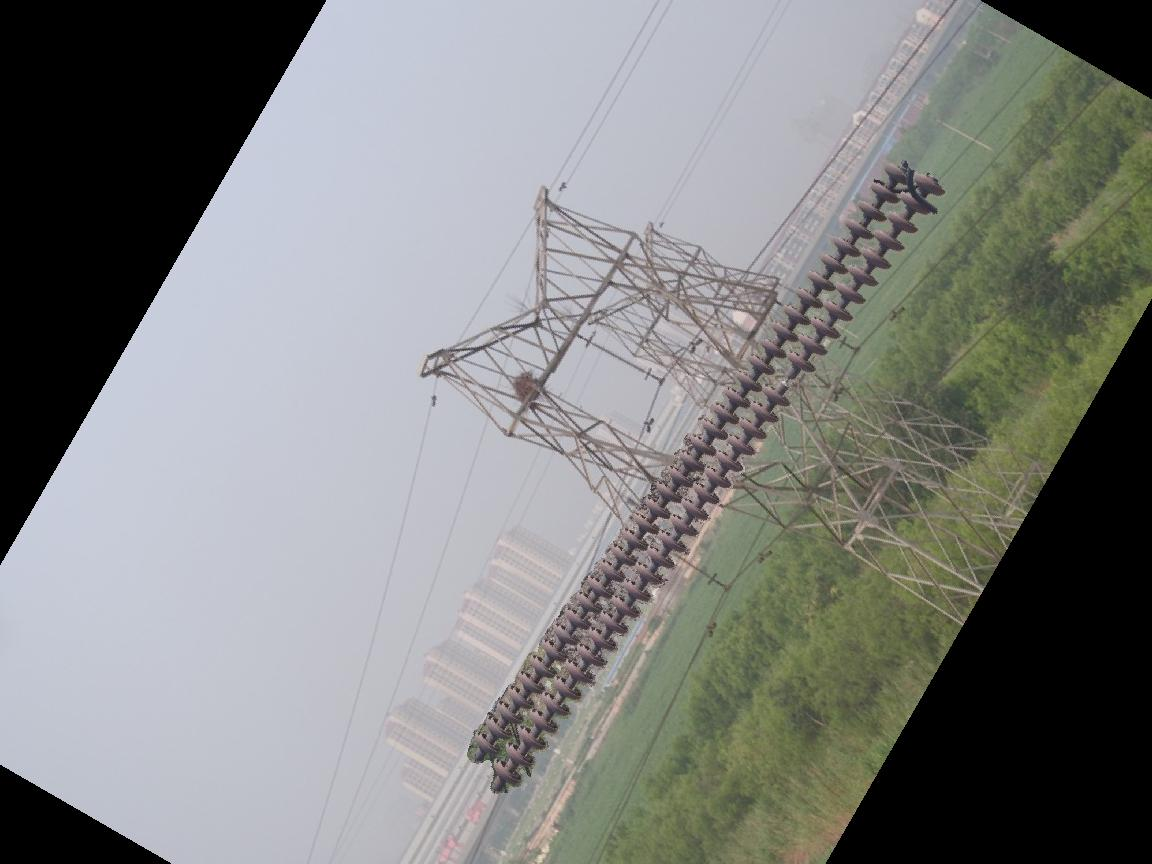insulator: (466, 157, 948, 791)
insulator_stringdrop: (760, 349, 818, 410)
